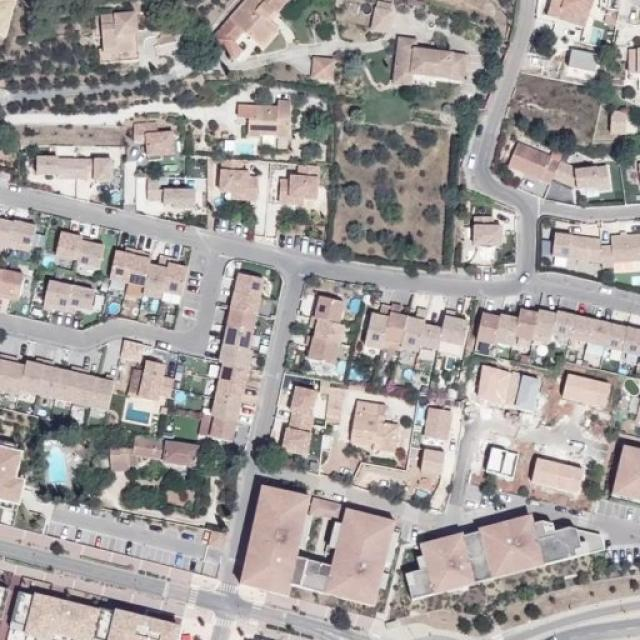immeuble: (238, 478, 400, 611), (408, 512, 606, 602), (0, 564, 12, 629)
maison: (200, 247, 266, 428), (0, 314, 116, 400), (363, 280, 471, 339), (214, 0, 288, 56), (116, 226, 188, 280), (396, 38, 470, 86), (112, 427, 196, 465), (281, 371, 319, 449), (55, 220, 105, 275), (354, 398, 404, 452), (121, 346, 175, 396), (309, 275, 345, 350), (508, 140, 560, 190), (44, 275, 99, 316), (528, 458, 584, 498), (99, 15, 140, 64), (218, 125, 258, 174), (278, 131, 321, 174), (246, 98, 292, 138), (550, 230, 602, 264), (0, 187, 41, 227), (149, 148, 195, 178), (39, 121, 90, 148), (484, 444, 520, 478), (577, 167, 614, 196), (471, 220, 505, 250), (0, 240, 26, 278), (132, 122, 162, 148), (73, 427, 96, 451), (97, 124, 115, 150)
piscine: (41, 435, 80, 497), (122, 404, 160, 424), (344, 357, 368, 380), (348, 289, 364, 320), (104, 298, 125, 318)
usine: (0, 516, 193, 621), (358, 446, 446, 497), (477, 368, 538, 416), (562, 369, 610, 408), (424, 403, 454, 439)
